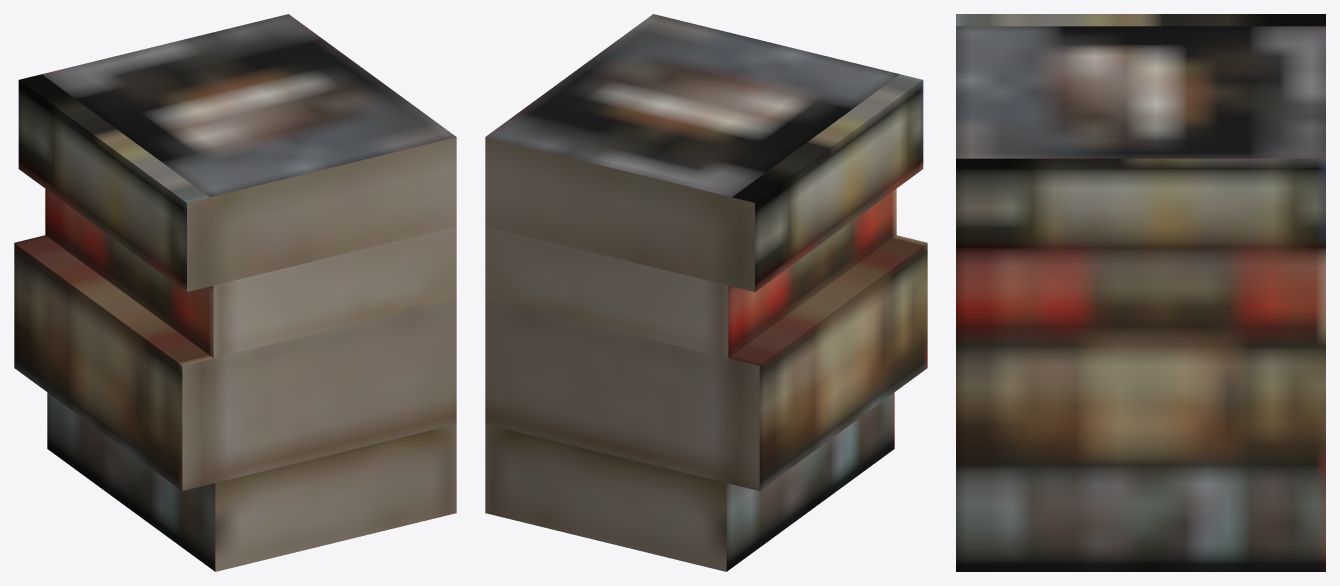
File: SM_Books_02.fbx
3 renders of one model, left to right at view 1: azimuth 30°, elevation 25°; view 2: azimuth 150°, elevation 25°; view 3: azimuth 270°, elevation 25°, orthographic. The views are drawn at different scales.
Parts seen in each view (by area): view 1: SM_Books_02; view 2: SM_Books_02; view 3: SM_Books_02.
Boxes of the visible parts, x1,y1,x2,y2 form: SM_Books_02: (14,14,456,571); SM_Books_02: (485,14,927,571); SM_Books_02: (956,14,1325,571).
Bounding box in the file's own units: 24.07 × 31.52 × 25.55.
